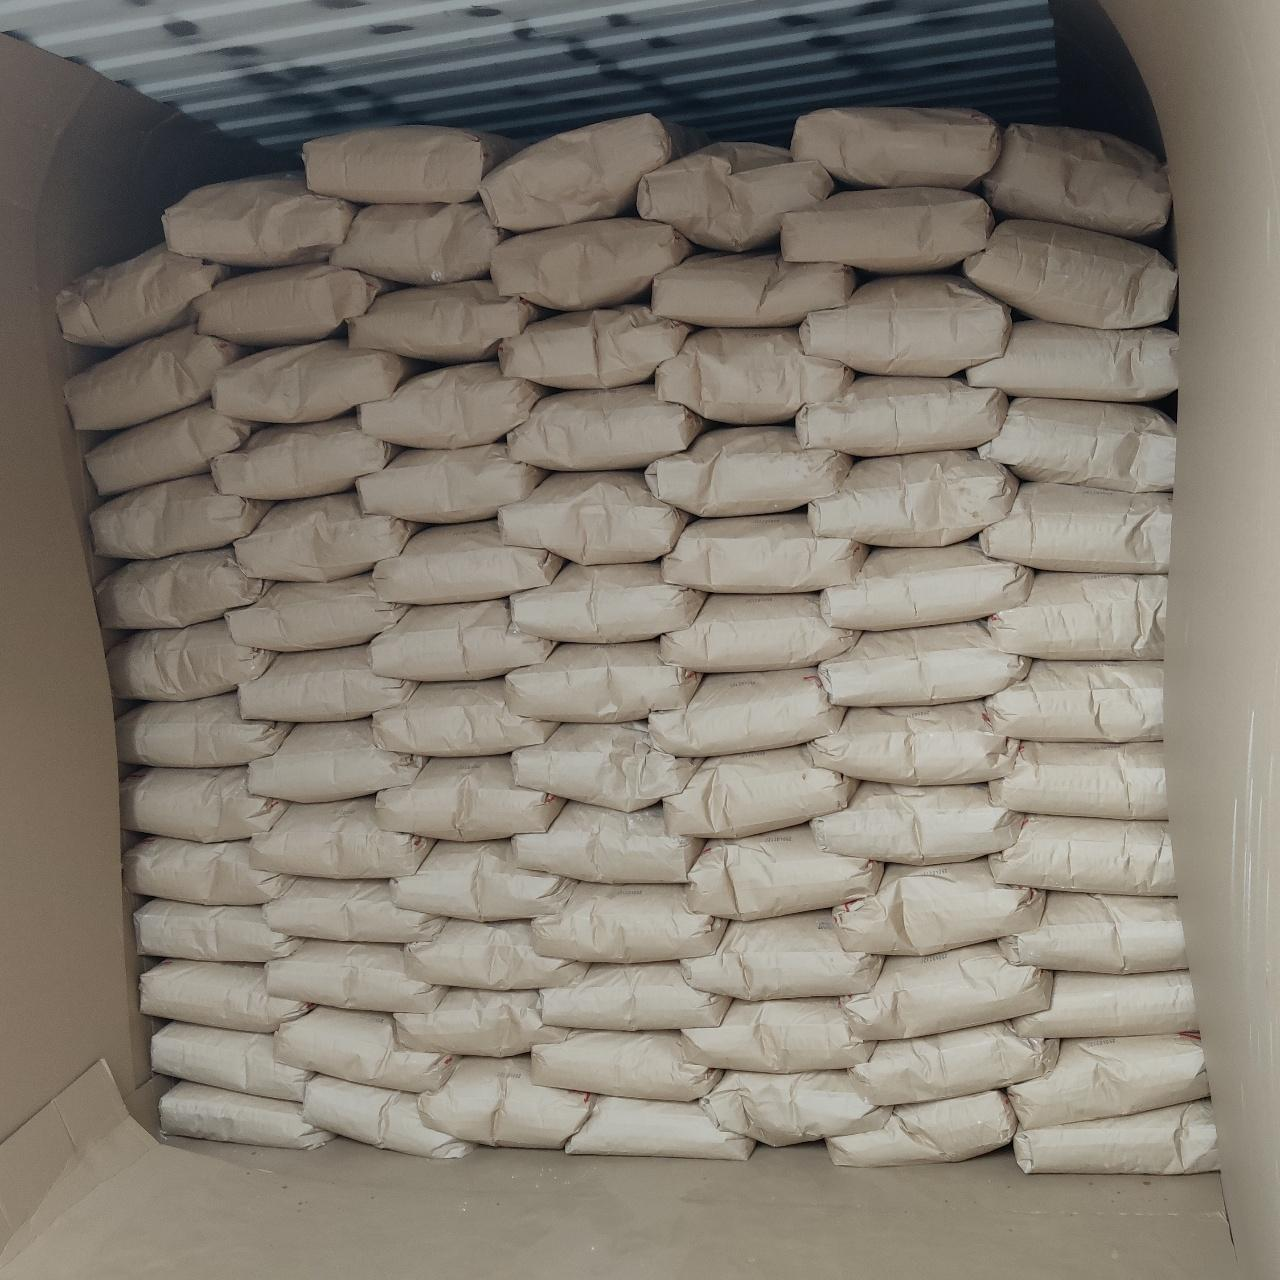sack: (482, 114, 702, 230), (962, 220, 1175, 326), (982, 124, 1170, 238), (799, 275, 1008, 374), (638, 144, 832, 248), (842, 944, 1046, 1039), (835, 860, 1044, 952), (66, 326, 248, 428), (646, 425, 852, 516), (492, 218, 694, 309), (656, 328, 852, 422), (822, 542, 1030, 629), (810, 452, 1014, 542), (1008, 1036, 1206, 1126), (688, 826, 881, 918), (57, 244, 230, 346), (682, 910, 880, 998), (166, 173, 354, 266), (980, 482, 1170, 572), (980, 400, 1175, 488), (666, 745, 855, 836), (821, 622, 1028, 704), (215, 338, 416, 422), (508, 386, 708, 470), (968, 320, 1178, 400), (812, 782, 1022, 862), (782, 190, 990, 270), (651, 670, 842, 756), (234, 492, 420, 580), (794, 108, 998, 188), (808, 702, 1012, 782), (796, 376, 1006, 454), (304, 124, 515, 200), (501, 472, 688, 558), (852, 1024, 1058, 1102), (195, 264, 396, 342), (662, 512, 866, 590), (501, 306, 692, 388), (86, 402, 254, 493), (418, 1056, 588, 1146), (212, 416, 399, 498), (350, 280, 542, 360), (377, 756, 561, 838), (374, 522, 560, 602), (515, 724, 697, 806), (515, 802, 702, 881), (506, 642, 702, 719), (274, 1008, 456, 1090), (988, 574, 1166, 658), (662, 594, 856, 670), (360, 365, 542, 445), (1016, 1099, 1218, 1172), (91, 476, 270, 558), (652, 254, 855, 326), (512, 561, 702, 638), (358, 442, 542, 520), (992, 816, 1176, 894), (1000, 892, 1184, 971), (370, 600, 554, 678), (332, 202, 504, 284), (535, 884, 726, 958), (990, 742, 1167, 821), (374, 680, 556, 756), (986, 662, 1164, 740), (392, 842, 572, 918), (96, 549, 268, 628), (254, 798, 430, 876), (250, 720, 422, 798), (229, 574, 406, 651), (700, 1070, 886, 1142), (828, 1092, 1014, 1164), (304, 1076, 470, 1156), (682, 1000, 870, 1070), (264, 940, 444, 1012), (108, 620, 272, 697), (240, 646, 414, 719), (118, 694, 292, 765), (406, 920, 586, 988), (540, 962, 726, 1028), (152, 1022, 309, 1099), (532, 1032, 719, 1096), (139, 960, 309, 1030), (1014, 971, 1194, 1036), (124, 768, 288, 838), (396, 988, 572, 1054), (566, 1096, 750, 1158), (124, 836, 292, 903), (159, 1082, 328, 1148), (264, 880, 442, 942), (136, 900, 302, 960)
